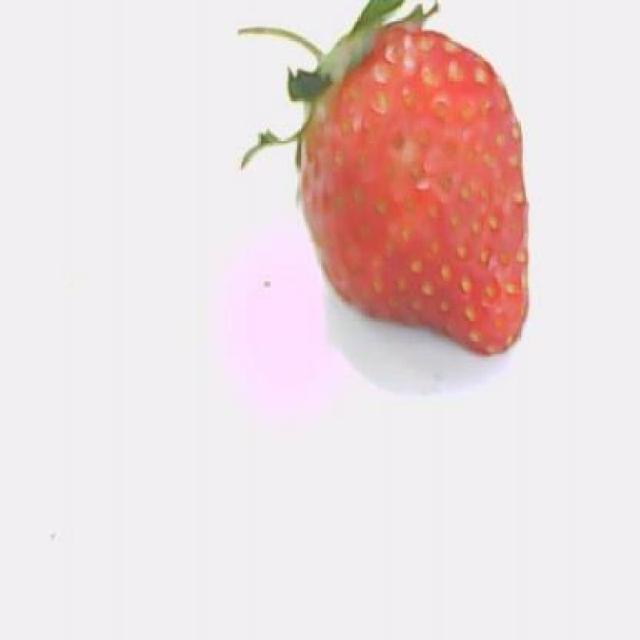strawberry: (241, 0, 528, 354)
